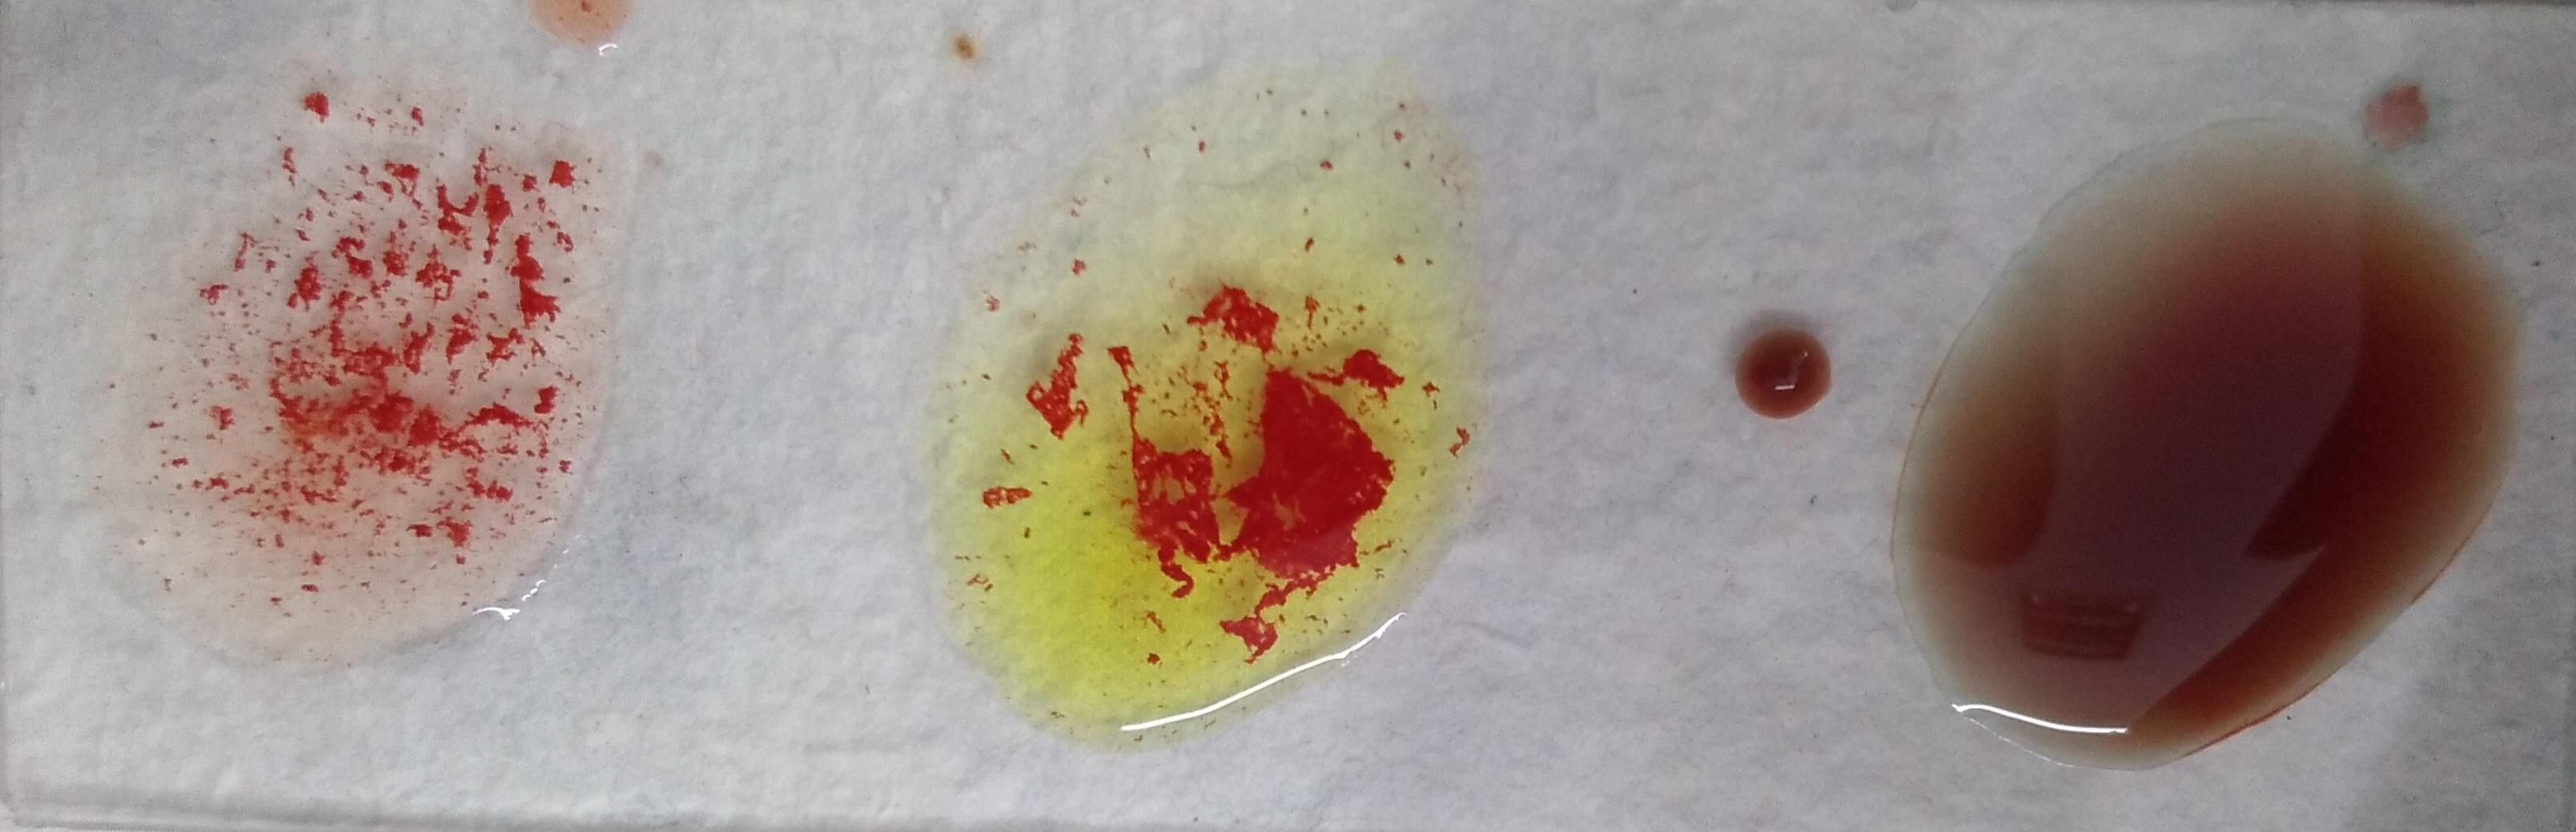B: (928, 56, 1462, 748)
D: (115, 77, 573, 681)
